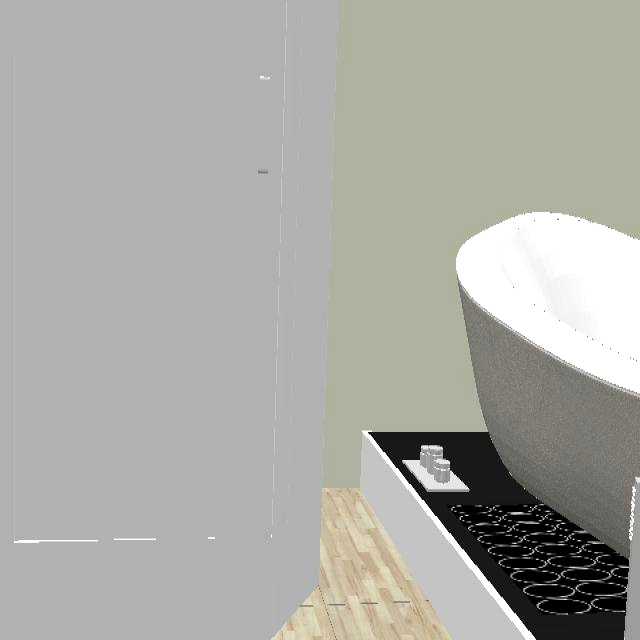bathtube: (458, 212, 640, 560)
